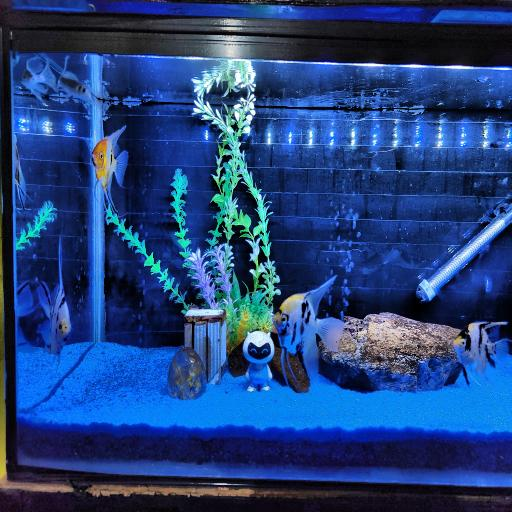Fish: (273, 276, 344, 384), (38, 240, 71, 354), (454, 322, 508, 385), (92, 126, 128, 211), (58, 56, 93, 102), (22, 57, 57, 102), (14, 135, 27, 211), (16, 282, 38, 317)
